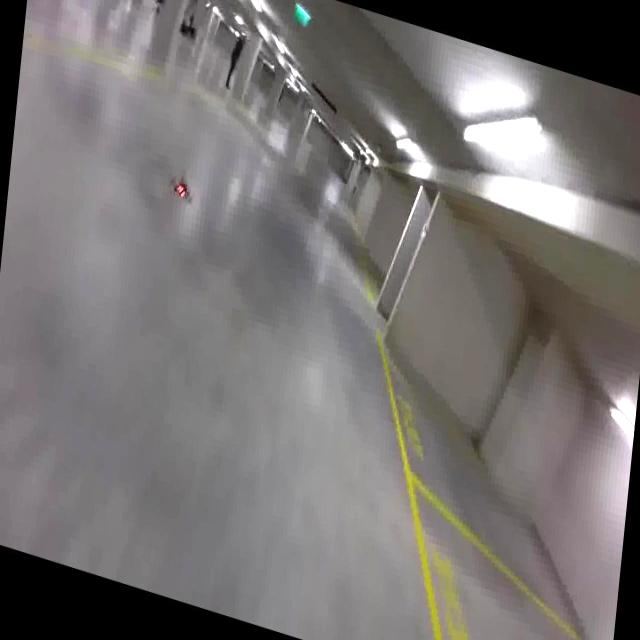drone: (164, 158, 197, 213)
